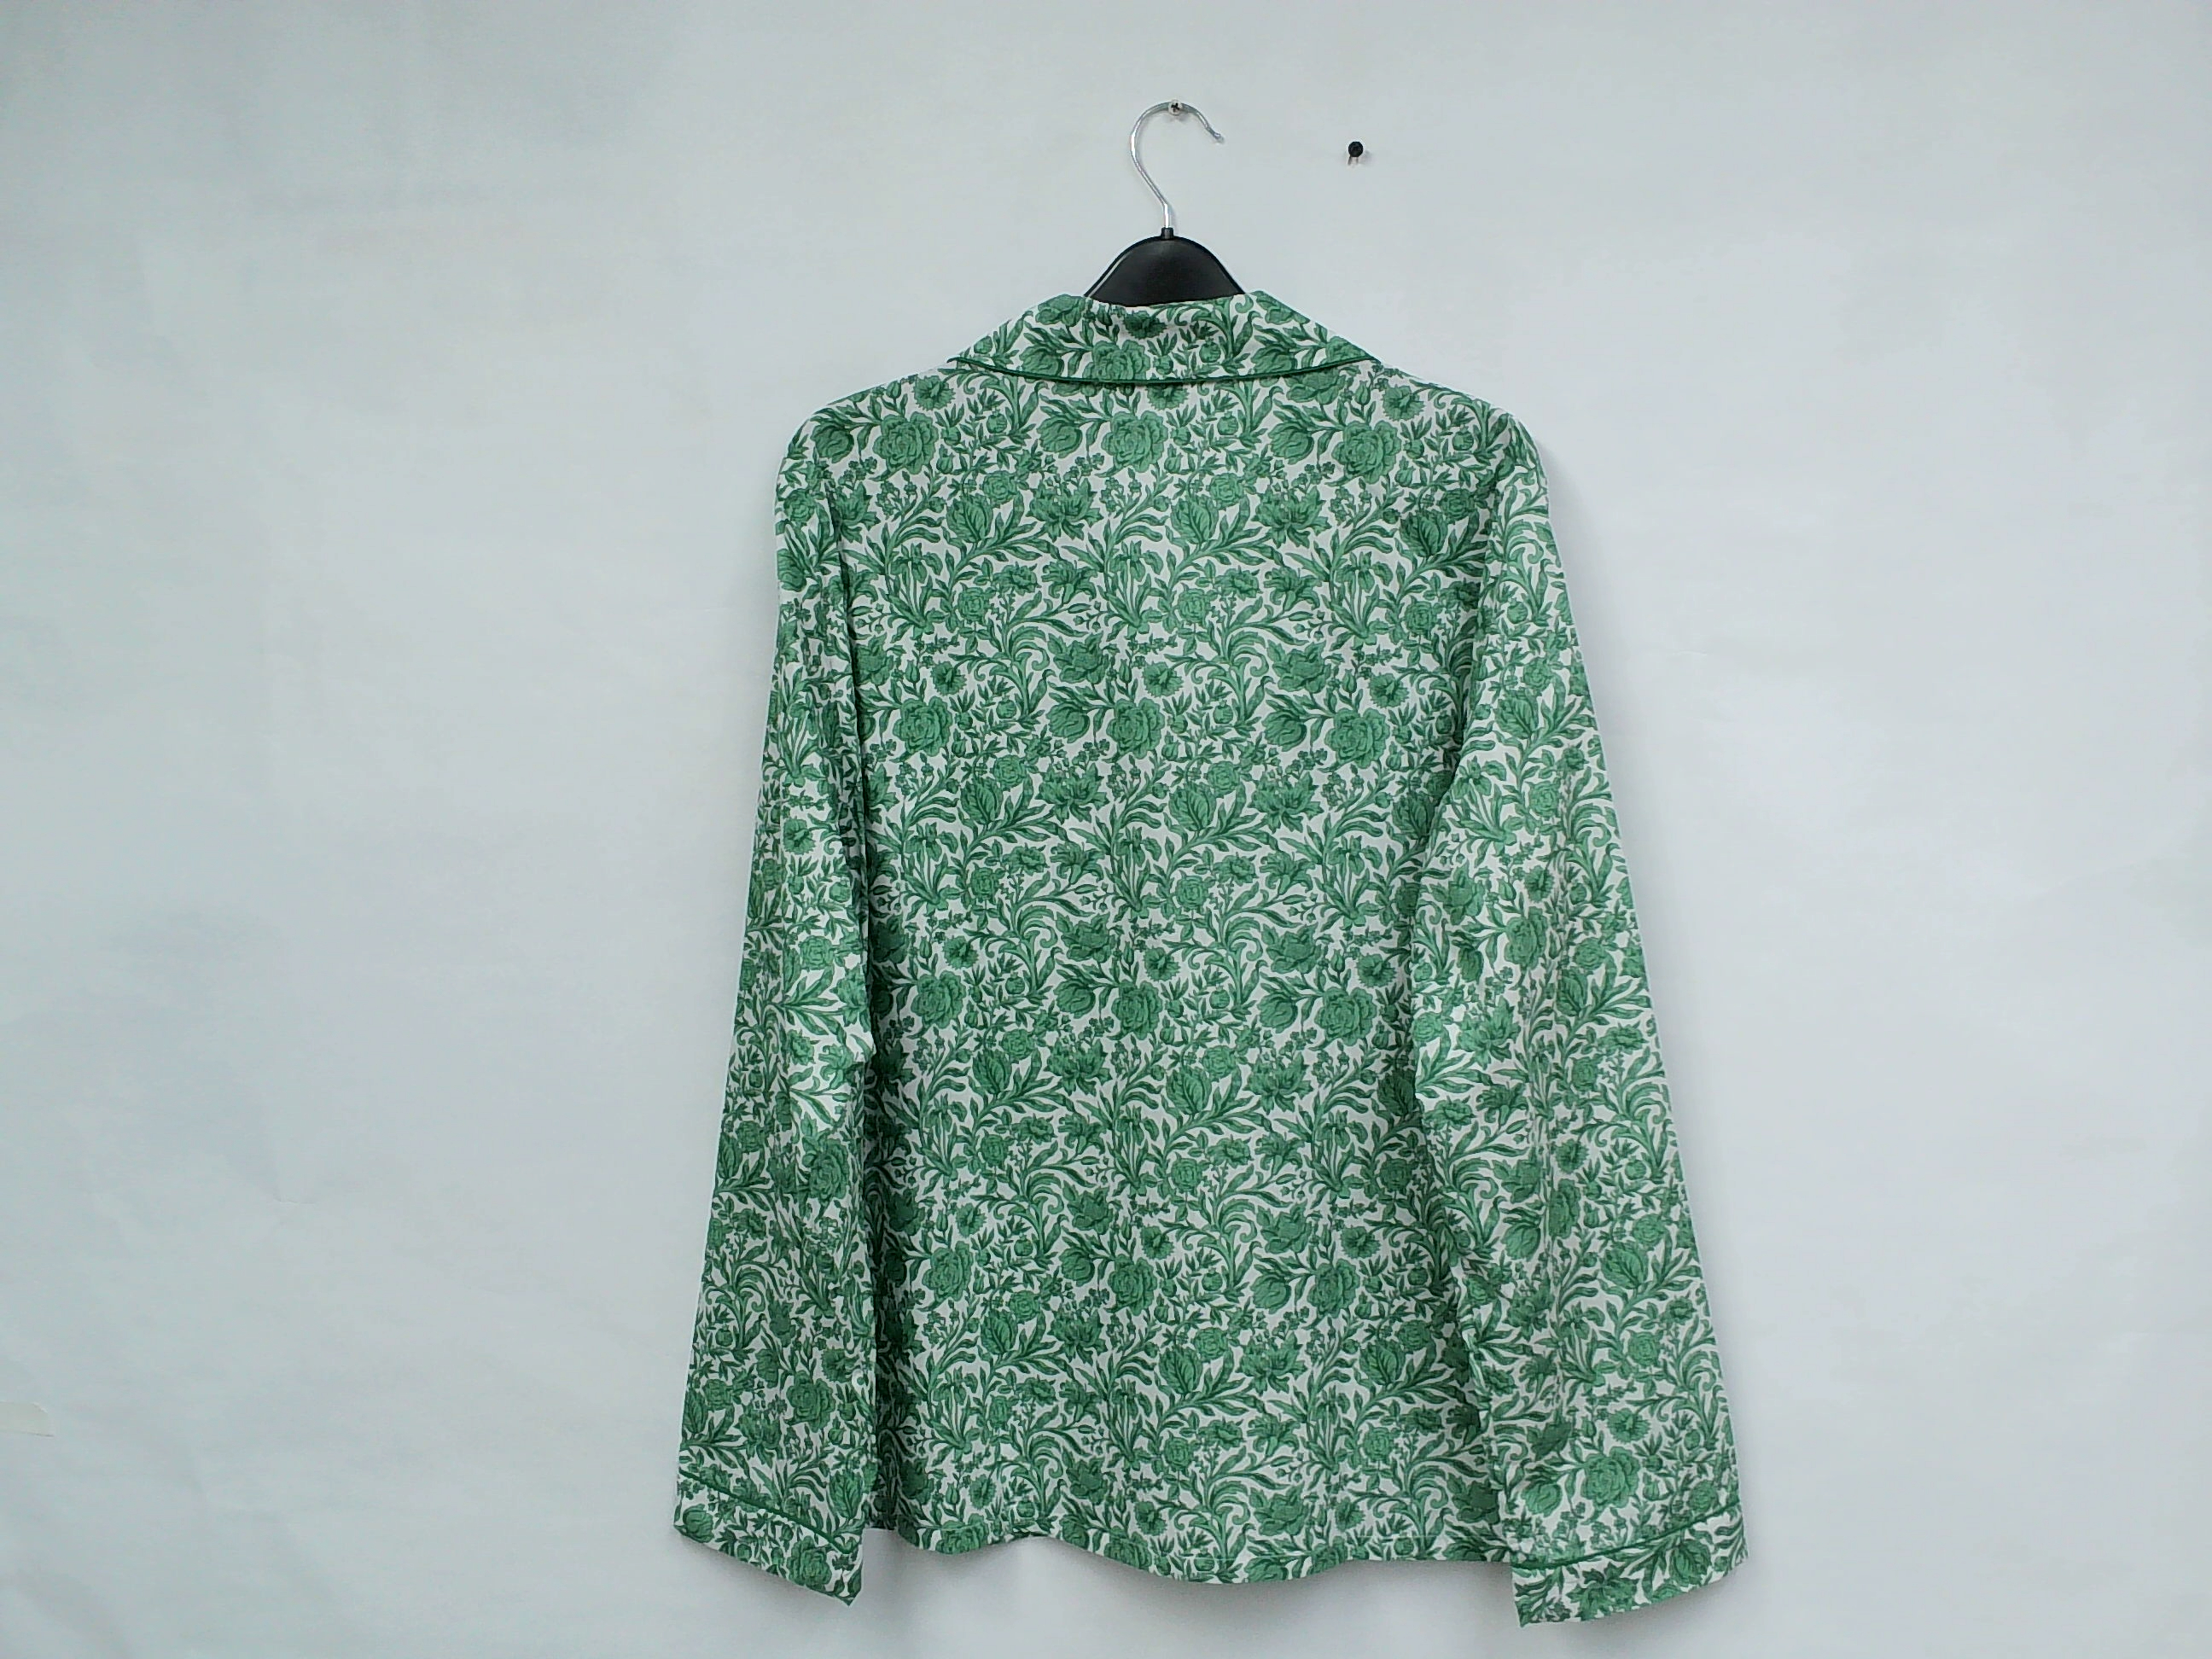seam: (1064, 350, 1158, 413)
